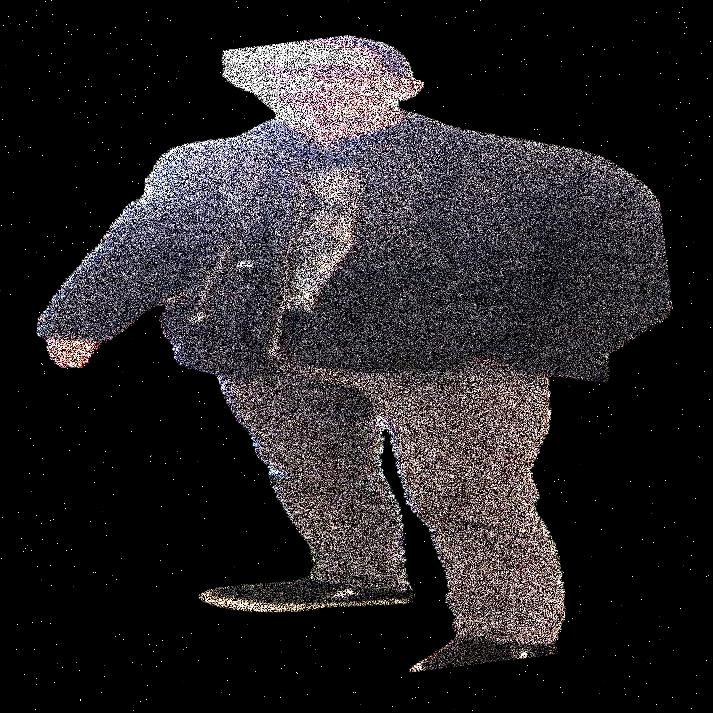Pessoa: (270, 0, 584, 712)
